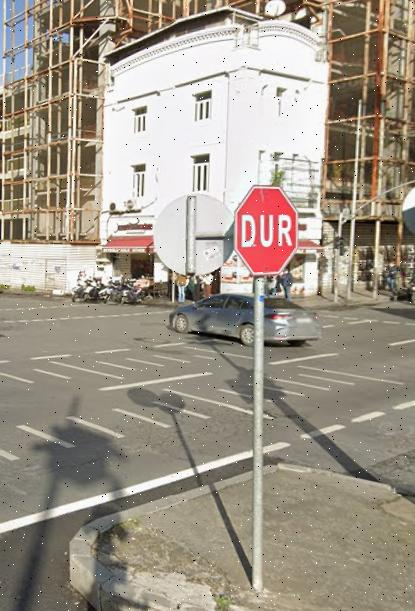stop: (229, 181, 302, 277)
